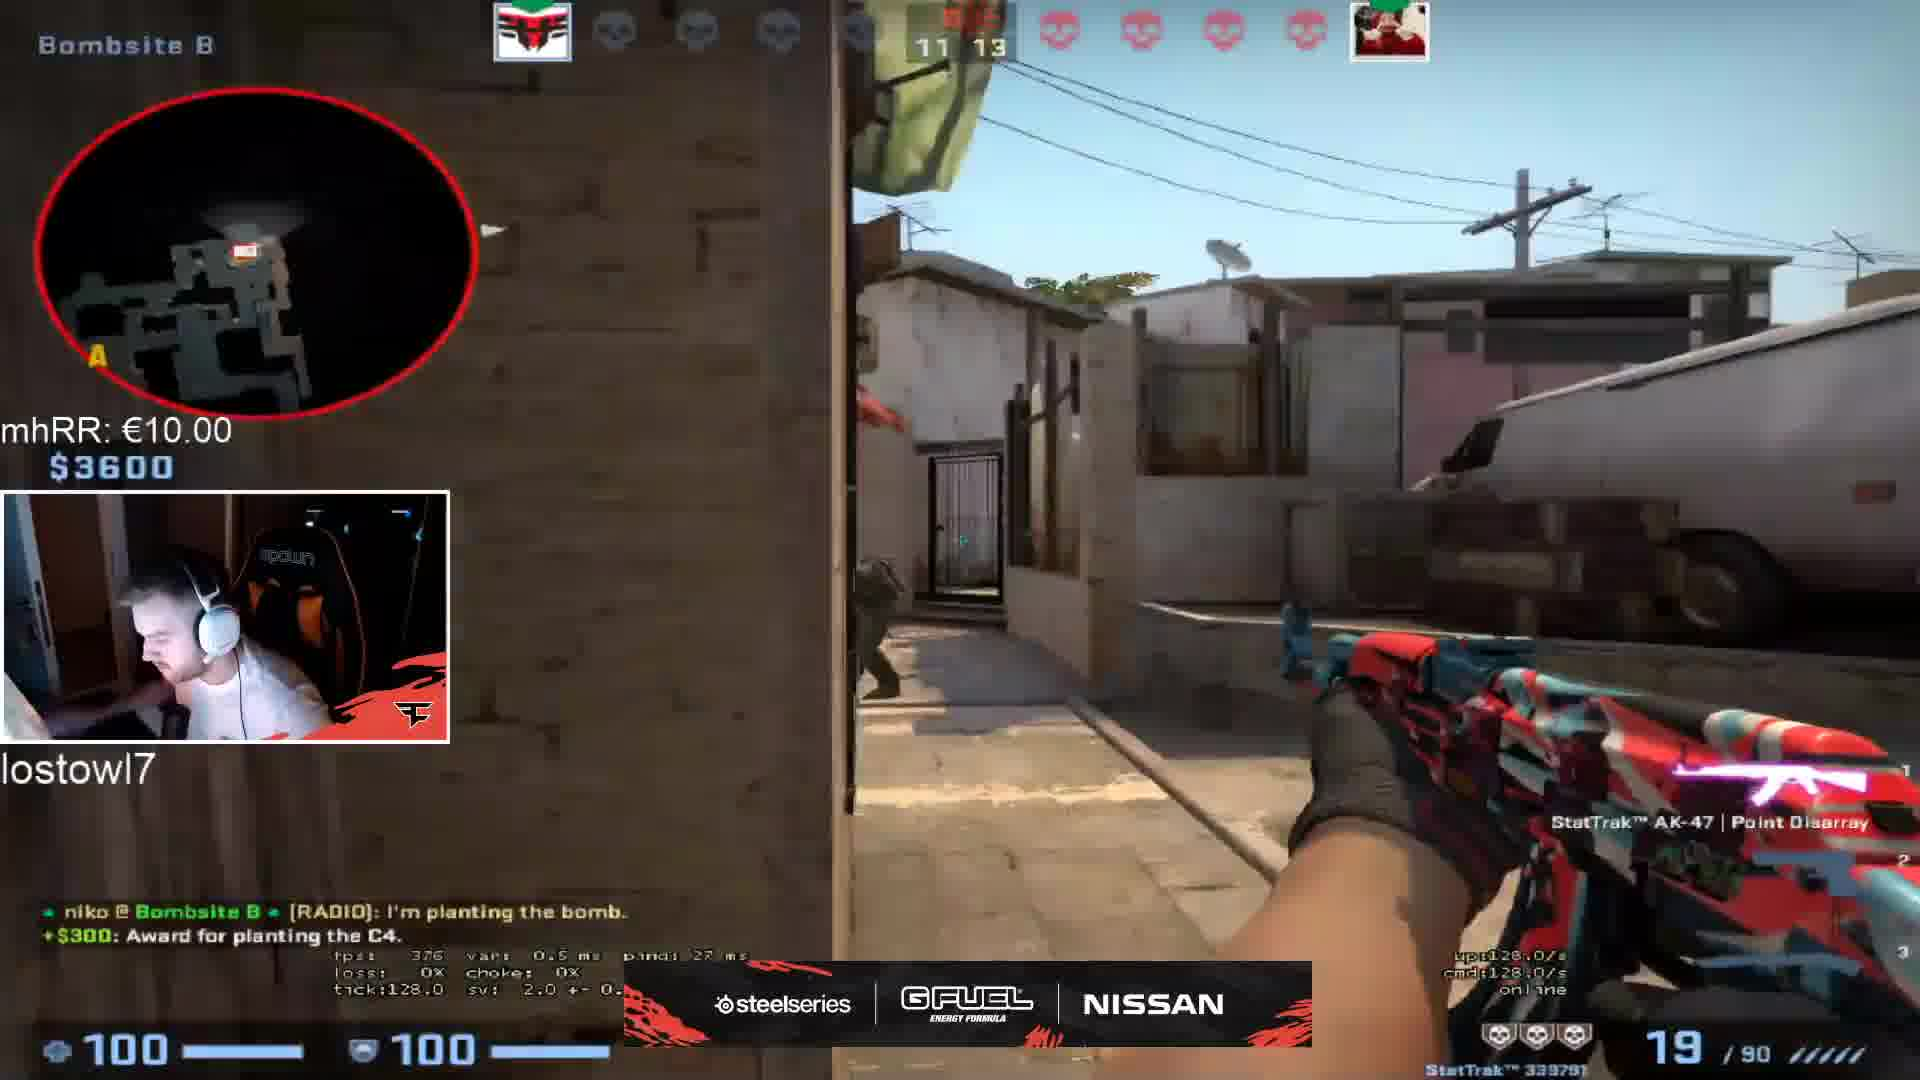enemy: (843, 549, 920, 707)
